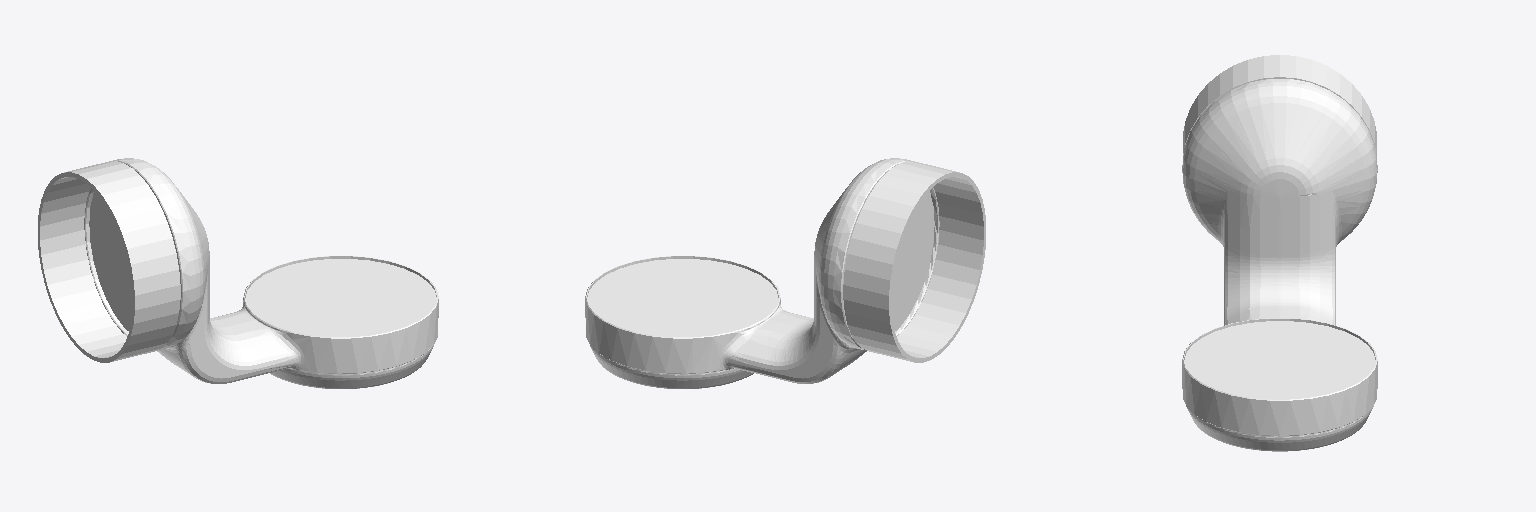
File: forearm_roll_link.obj
The picture shows the model from 3 angles: view 1: azimuth 30°, elevation 25°; view 2: azimuth 150°, elevation 25°; view 3: azimuth 270°, elevation 25°; orthographic projection.
Size of the model in its own units: 0.2085 by 0.139 by 0.104.